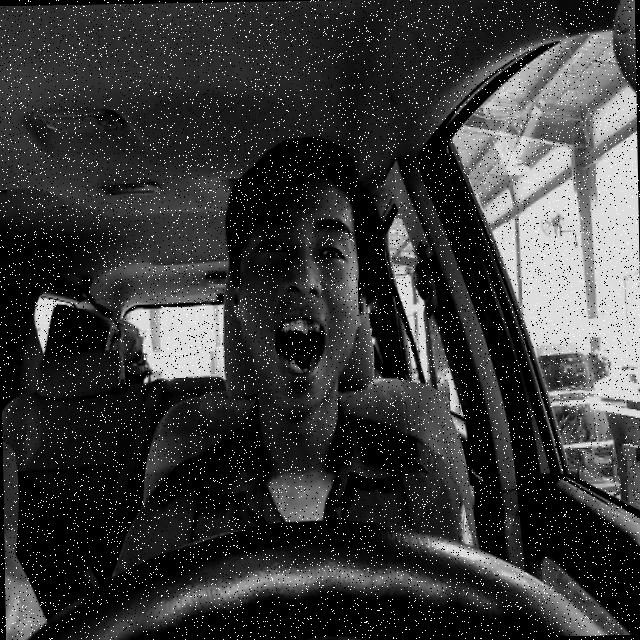yarning: (227, 168, 363, 418)
